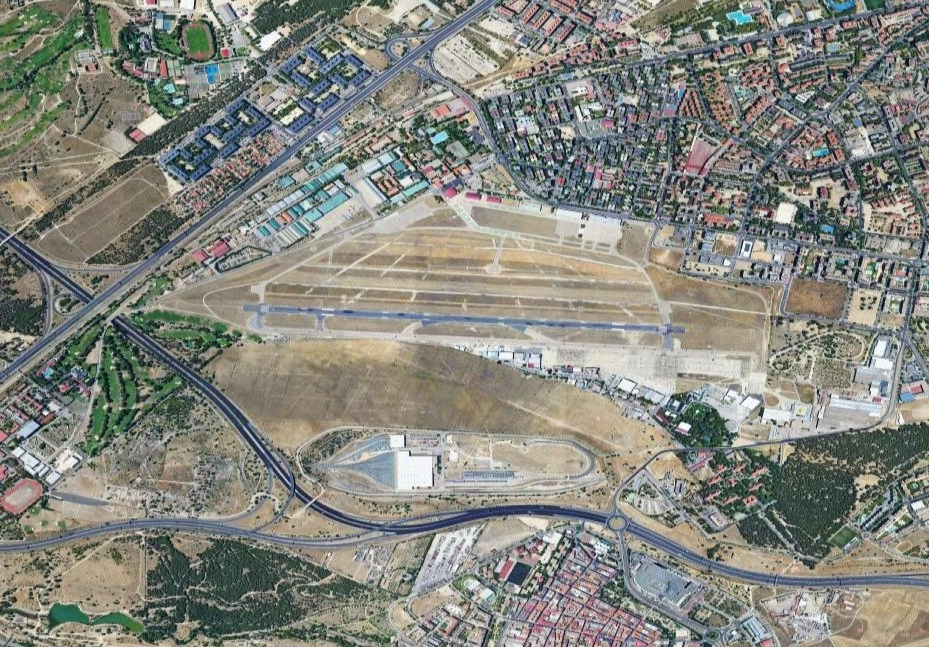airport: (241, 299, 764, 412)
motorway: (42, 269, 118, 326), (114, 319, 190, 376), (187, 371, 255, 434), (1, 225, 76, 282), (237, 432, 302, 494), (1, 328, 61, 389), (297, 487, 377, 532), (377, 505, 473, 542), (474, 498, 581, 530), (117, 230, 183, 280), (181, 187, 247, 237), (245, 138, 311, 188), (304, 89, 370, 139), (364, 41, 430, 91), (425, 1, 491, 49), (807, 568, 929, 591), (425, 59, 473, 101), (71, 518, 141, 544), (211, 519, 281, 545), (139, 508, 209, 534), (281, 528, 351, 554), (1, 530, 70, 556), (636, 527, 690, 558), (690, 553, 748, 581), (747, 567, 805, 595), (583, 504, 638, 532), (466, 100, 495, 148)
train_station: (323, 426, 602, 495)
